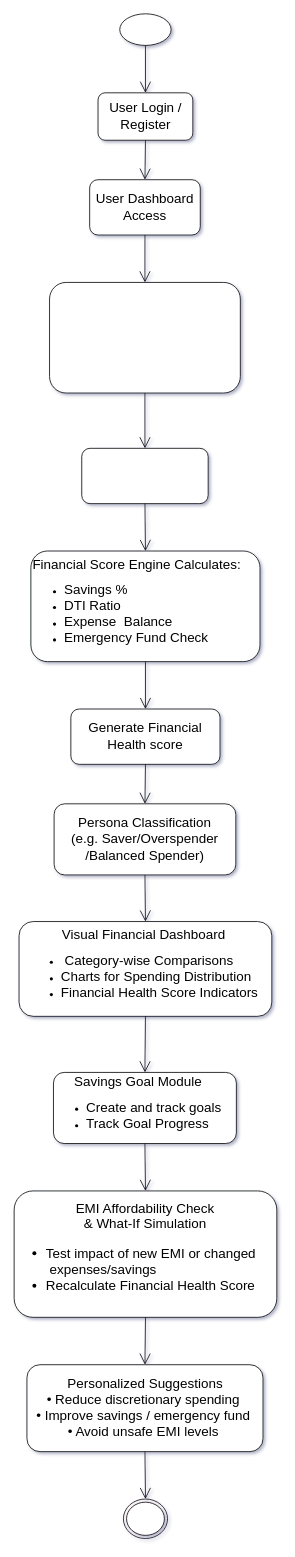
Some shapes in this 295 by 1557 pixel diagram are drawn without their labels. Here are the shapes that lost their labels. From the top down, the centre of each, then its label:
(x=145, y=29): Start
(x=144, y=337): Enter Financial Inputs: Income Expenses (Categories) Savings EMI Details
(x=144, y=476): Store Input Data
(x=145, y=1518): End
